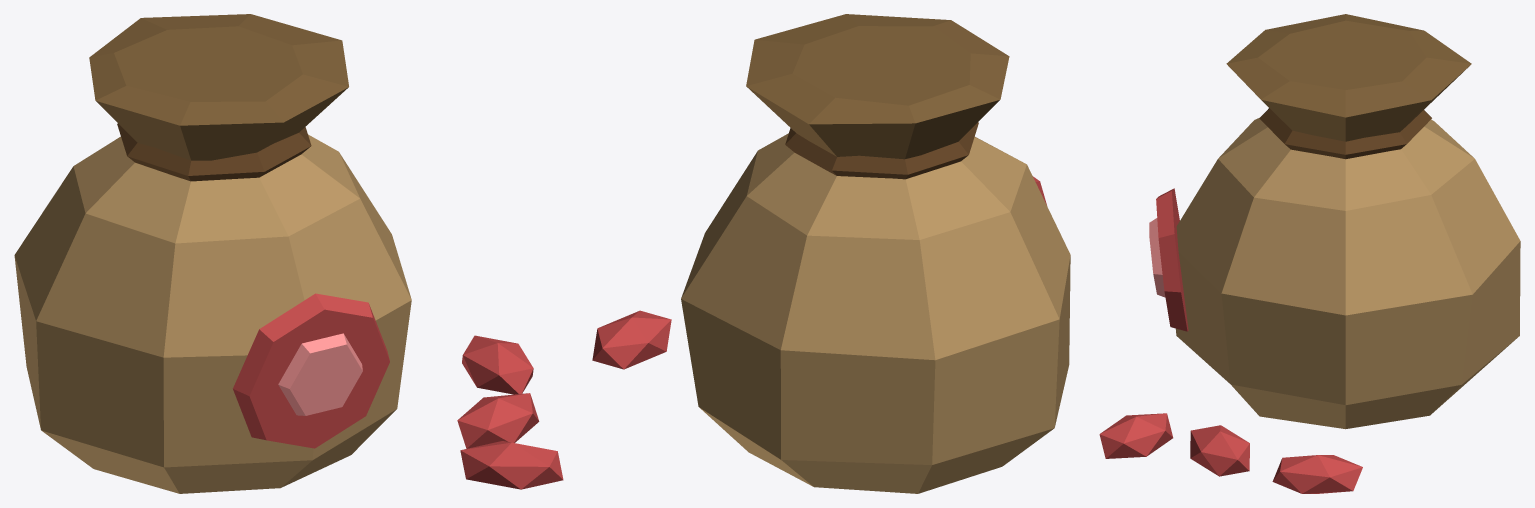
Rendered from seed_bag.glb.
3 views of the same model, side by side, from view 1: azimuth 30°, elevation 25°; view 2: azimuth 150°, elevation 25°; view 3: azimuth 270°, elevation 25° (orthographic). The views are drawn at different scales.
Visible parts, largest first — view 1: seed_bag; view 2: seed_bag; view 3: seed_bag.
Boxes of the visible parts, x1,y1,x2,y2 form: seed_bag: [14, 14, 563, 493]; seed_bag: [592, 14, 1070, 493]; seed_bag: [1099, 14, 1520, 493].
Bounding box in the file's own units: 0.3364 × 0.2564 × 0.3017.
